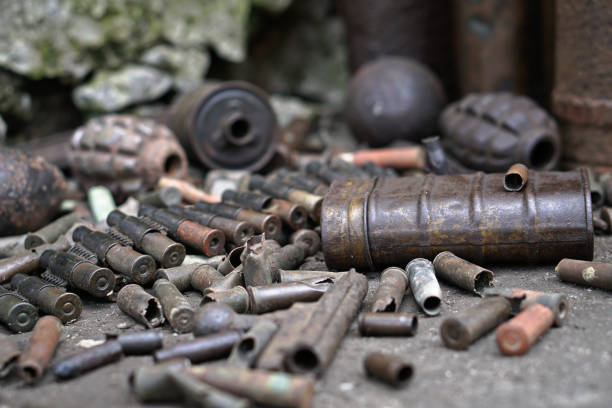e1: (437, 90, 568, 172), (58, 112, 188, 186)
